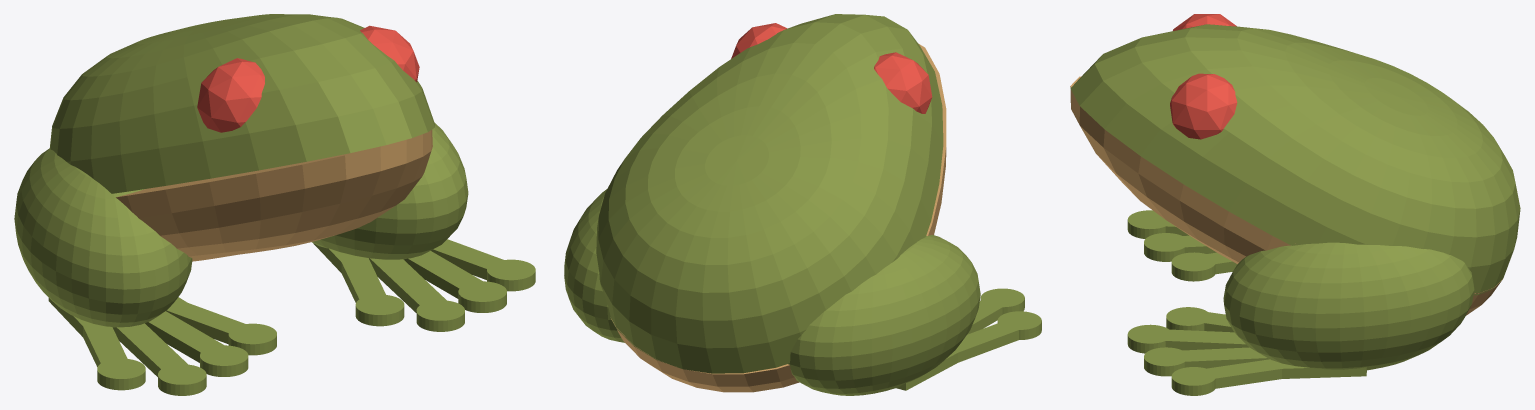
Rendered from frog2.fbx.
The picture shows the model from 3 angles, left to right: view 1: azimuth 30°, elevation 25°; view 2: azimuth 150°, elevation 25°; view 3: azimuth 270°, elevation 25°; orthographic projection. The views are drawn at different scales.
Parts seen in each view (by area): view 1: Icosphere; view 2: Icosphere; view 3: Icosphere.
Boxes of the visible parts, bbox=[...] form: Icosphere: bbox=[14, 14, 535, 395]; Icosphere: bbox=[564, 14, 1041, 395]; Icosphere: bbox=[1070, 14, 1520, 395].
Size of the model in its own units: 135 by 88.52 by 132.
